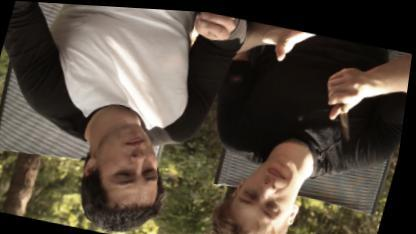knife: (312, 72, 377, 147)
